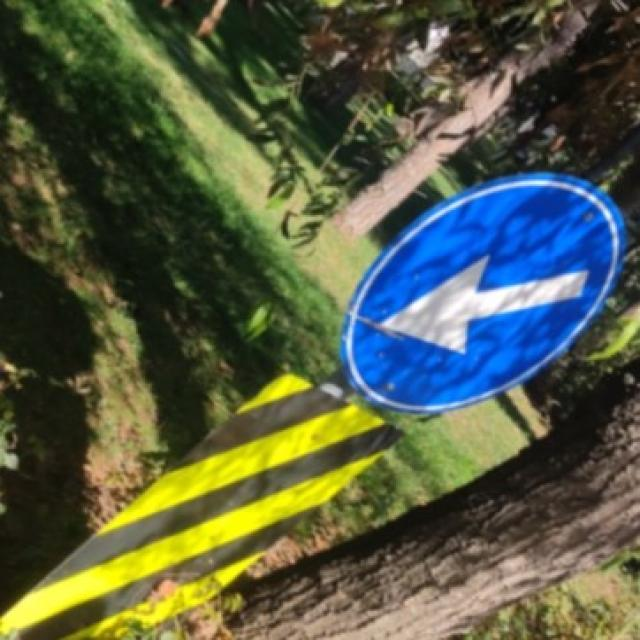Turn Left: (347, 188, 615, 396)
